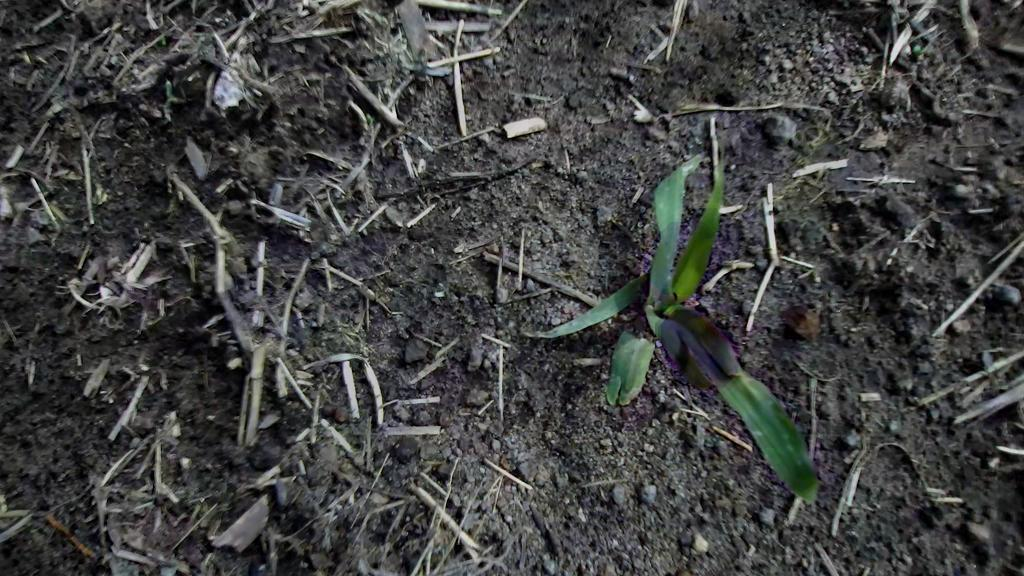BroWeed: (160, 80, 186, 121), (908, 42, 923, 57), (364, 111, 374, 125), (159, 36, 168, 45)
Maize: (487, 142, 825, 569)
